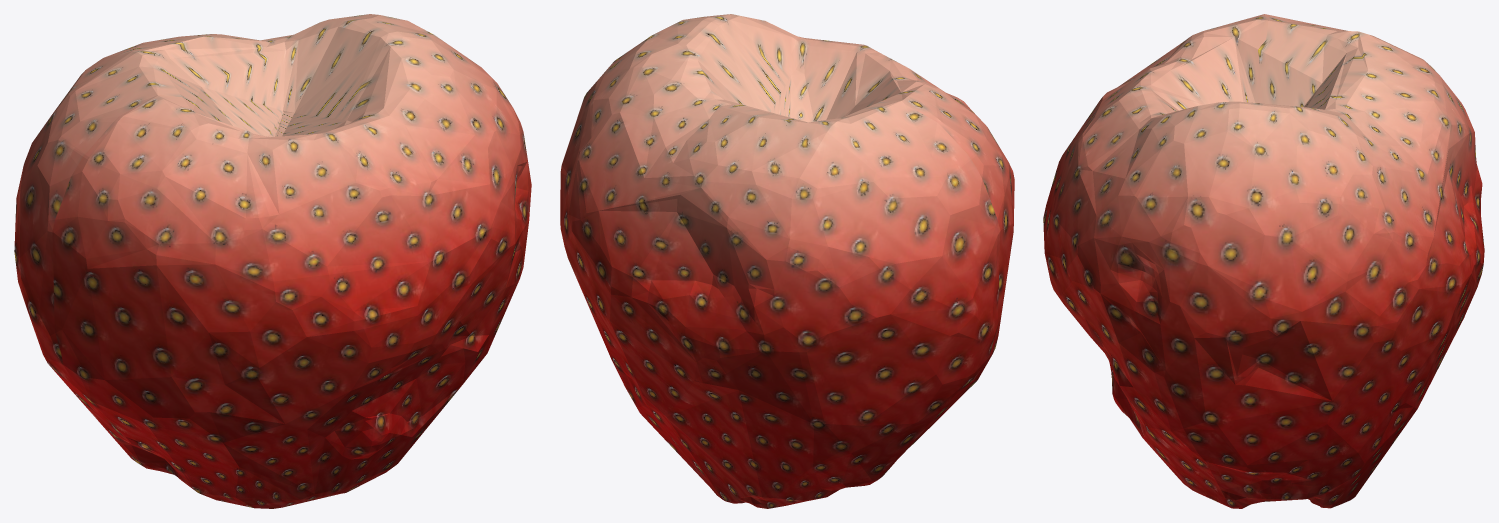
3 renders of one model, left to right at view 1: azimuth 30°, elevation 25°; view 2: azimuth 150°, elevation 25°; view 3: azimuth 270°, elevation 25°, orthographic. The views are drawn at different scales.
Parts seen in each view (by area): view 1: _002_Meshed; view 2: _002_Meshed; view 3: _002_Meshed.
Part boxes in pixels (x1,y1,x2,y2): _002_Meshed: (14,14,531,508); _002_Meshed: (560,14,1014,508); _002_Meshed: (1043,14,1484,508).
Size of the model in its own units: 0.1001 by 0.0879 by 0.0956.
Materials: 1 (1 with a texture image).
